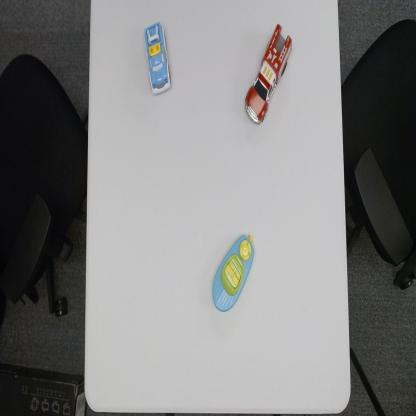Boat: (211, 230, 256, 314)
Car: (143, 21, 172, 96)
Firetruck: (244, 23, 293, 127)
